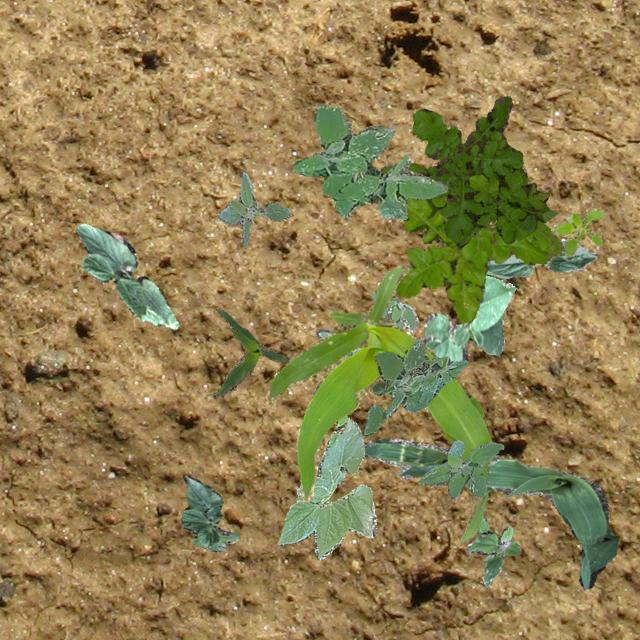crop: (264, 264, 490, 542), (362, 436, 618, 588), (276, 414, 376, 558), (76, 222, 178, 328), (422, 274, 514, 359), (212, 306, 288, 398), (180, 474, 238, 552), (484, 240, 596, 278), (296, 470, 344, 500)
weed: (379, 162, 562, 322), (412, 95, 556, 246), (292, 104, 446, 218), (362, 336, 467, 436), (316, 290, 418, 358), (217, 172, 290, 244), (417, 439, 502, 498), (464, 516, 520, 586), (550, 208, 602, 255)
